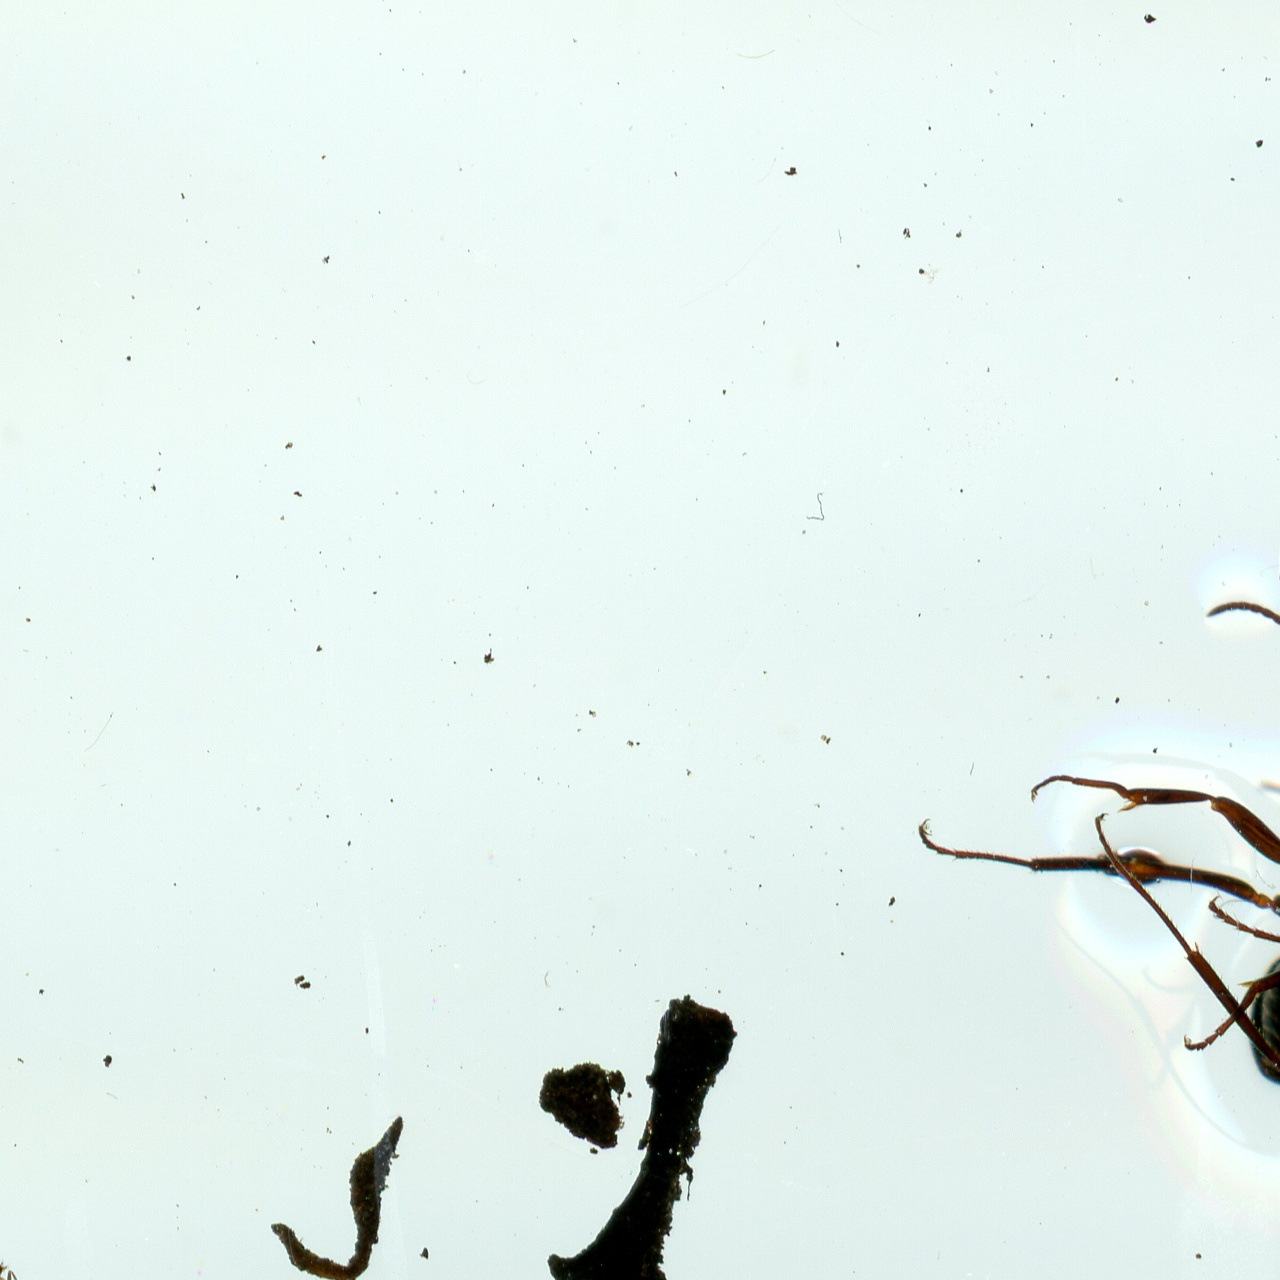arthropod: (915, 594, 1280, 1108), (0, 1252, 56, 1280)
